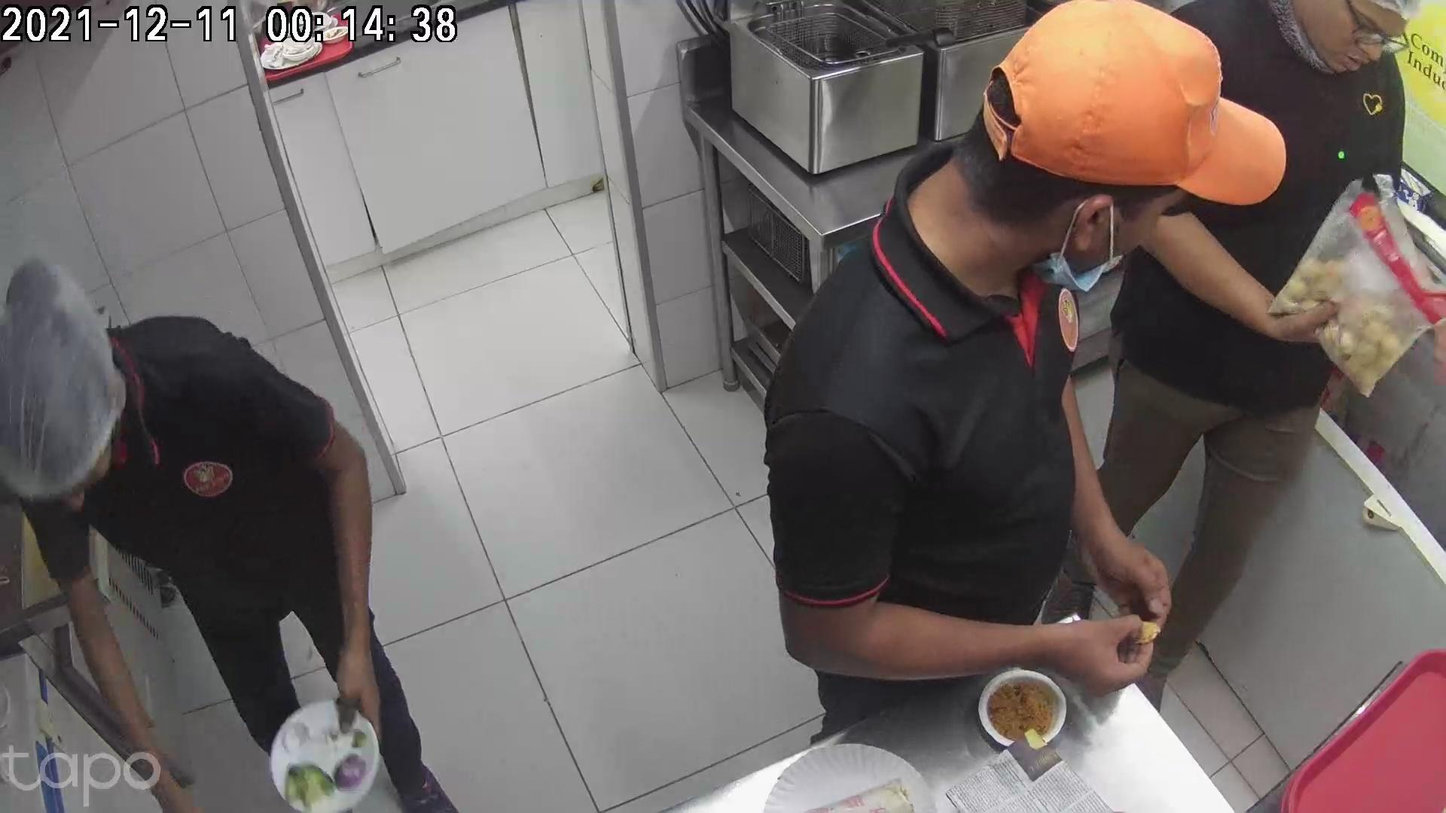gloves: (881, 622, 988, 743)
no_gloves: (1035, 582, 1115, 708)
